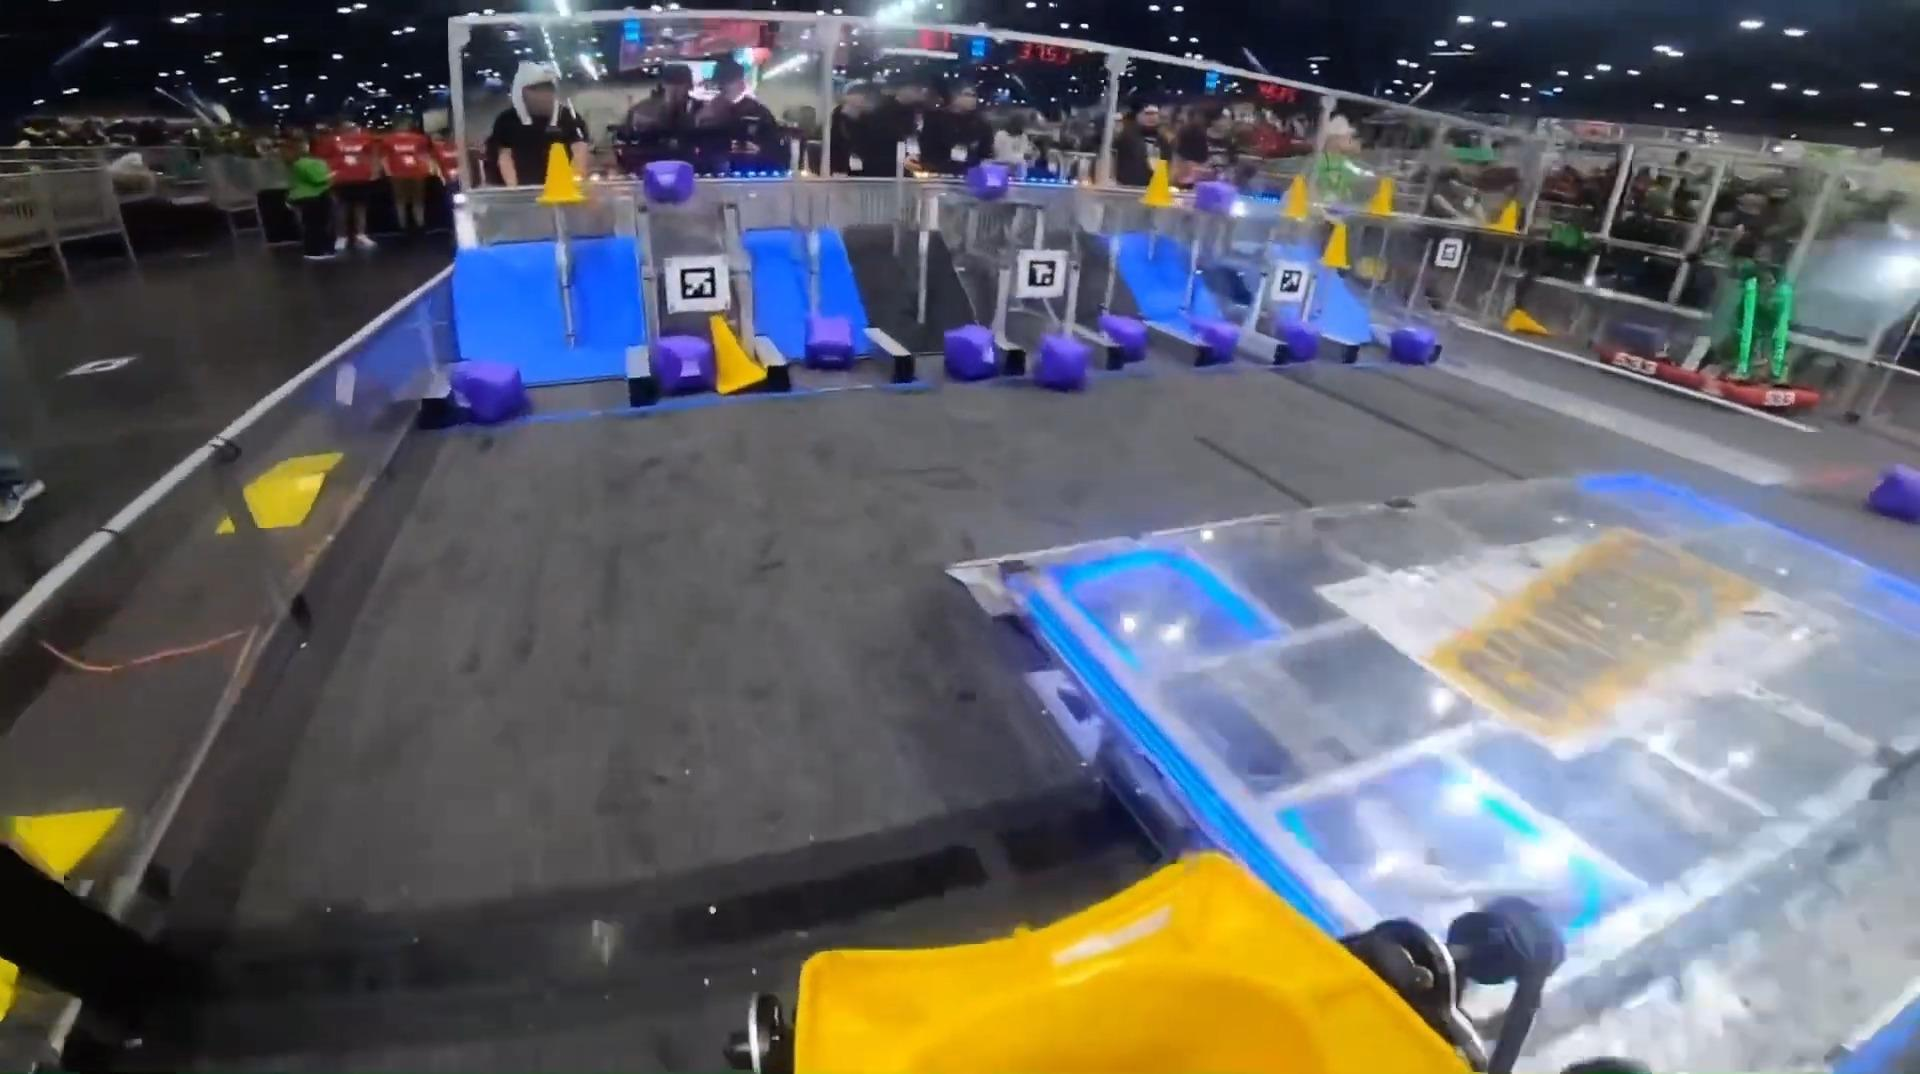robot: (1702, 273, 1820, 413), (1601, 314, 1704, 392)
